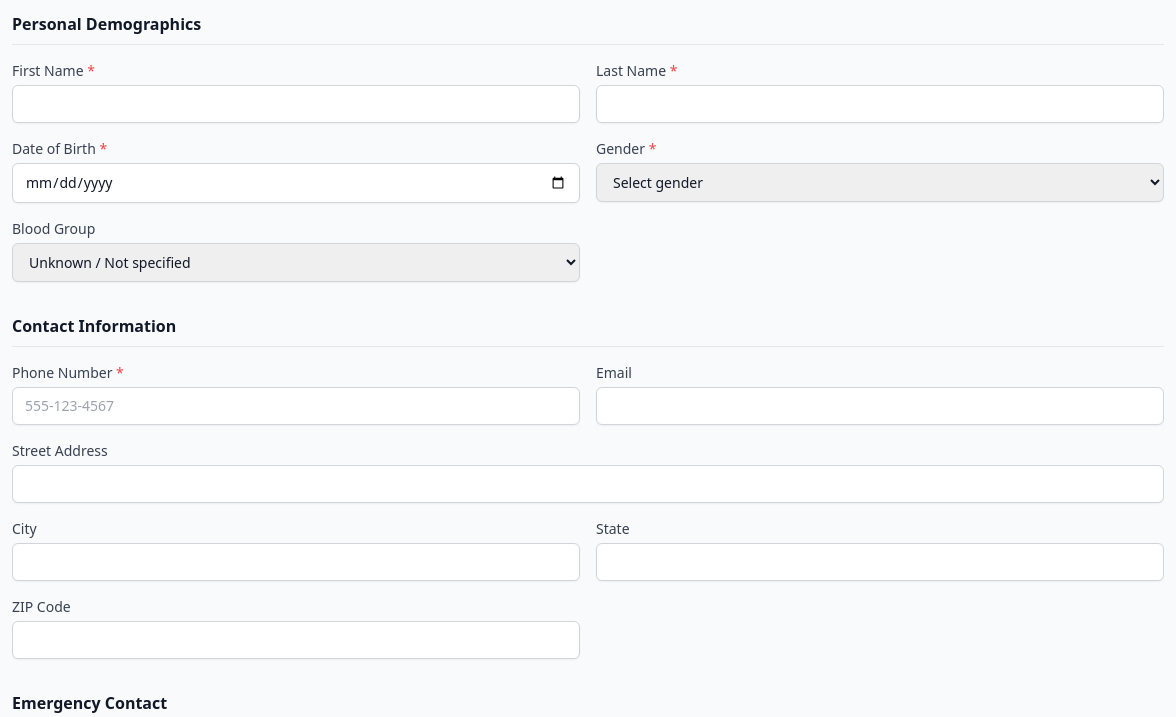
Test case: PatientRegistrationForm › shows email error on blur with invalid email
Step 1. Type "not-an-email" into the field labelled "Email" → (880, 406), box [596,387,1164,425]
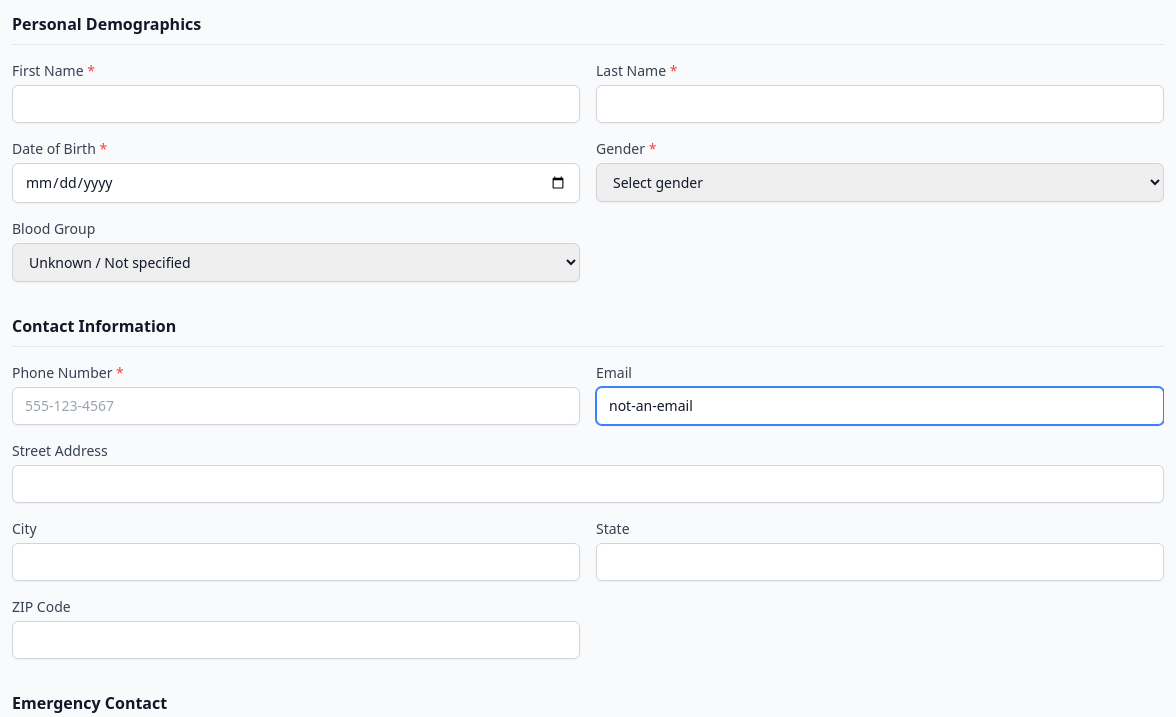
Step 2. Leave the field labelled "Email", box [596,387,1164,425]
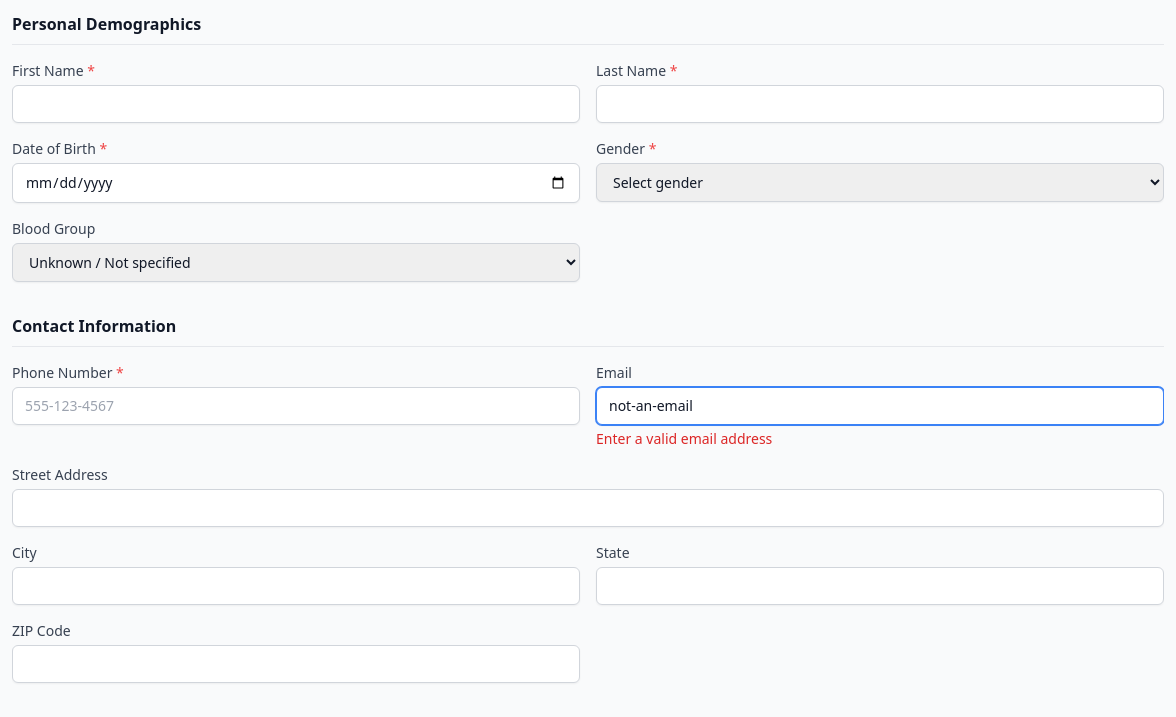
Now the text "Enter a valid email address" is shown, box [596,429,772,448]
